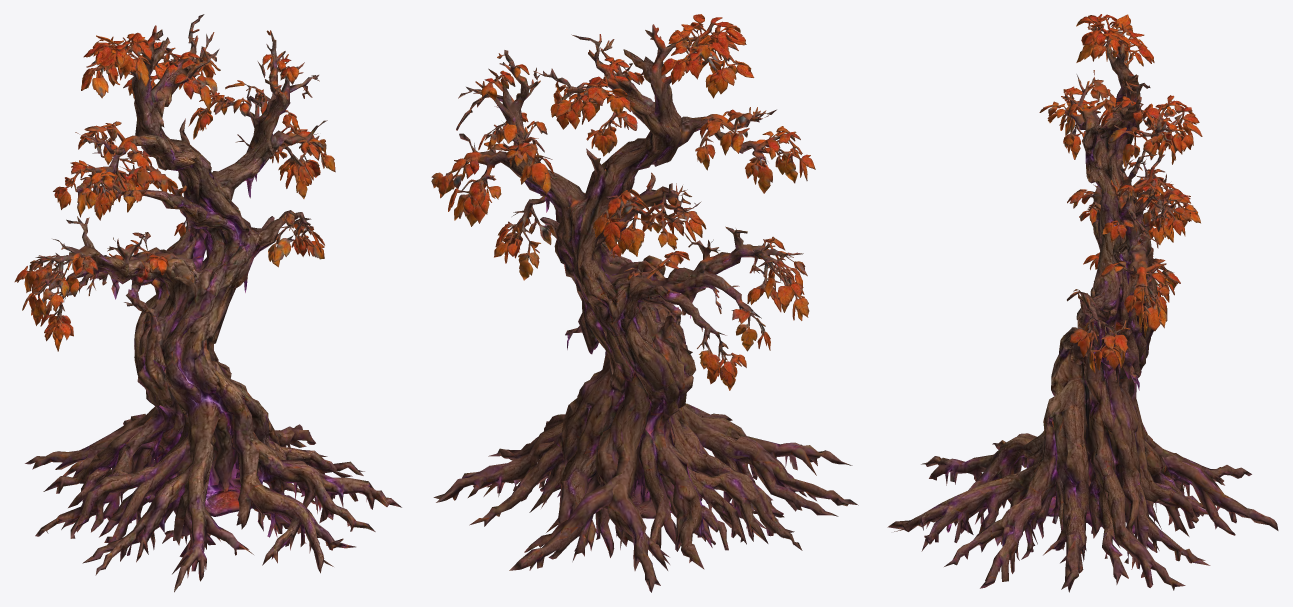
File: tree-gnarled.glb
3 renders of one model, left to right at view 1: azimuth 30°, elevation 25°; view 2: azimuth 150°, elevation 25°; view 3: azimuth 270°, elevation 25°, orthographic. The views are drawn at different scales.
Parts seen in each view (by area): view 1: Mesh_0; view 2: Mesh_0; view 3: Mesh_0.
Boxes of the visible parts, box(x1,y1,x2,y2) form: Mesh_0: box(14, 14, 401, 592); Mesh_0: box(431, 14, 858, 592); Mesh_0: box(887, 14, 1278, 592).
Bounding box in the file's own units: 1.37 × 1.91 × 1.43.
Materials: 1 (1 with a texture image).
